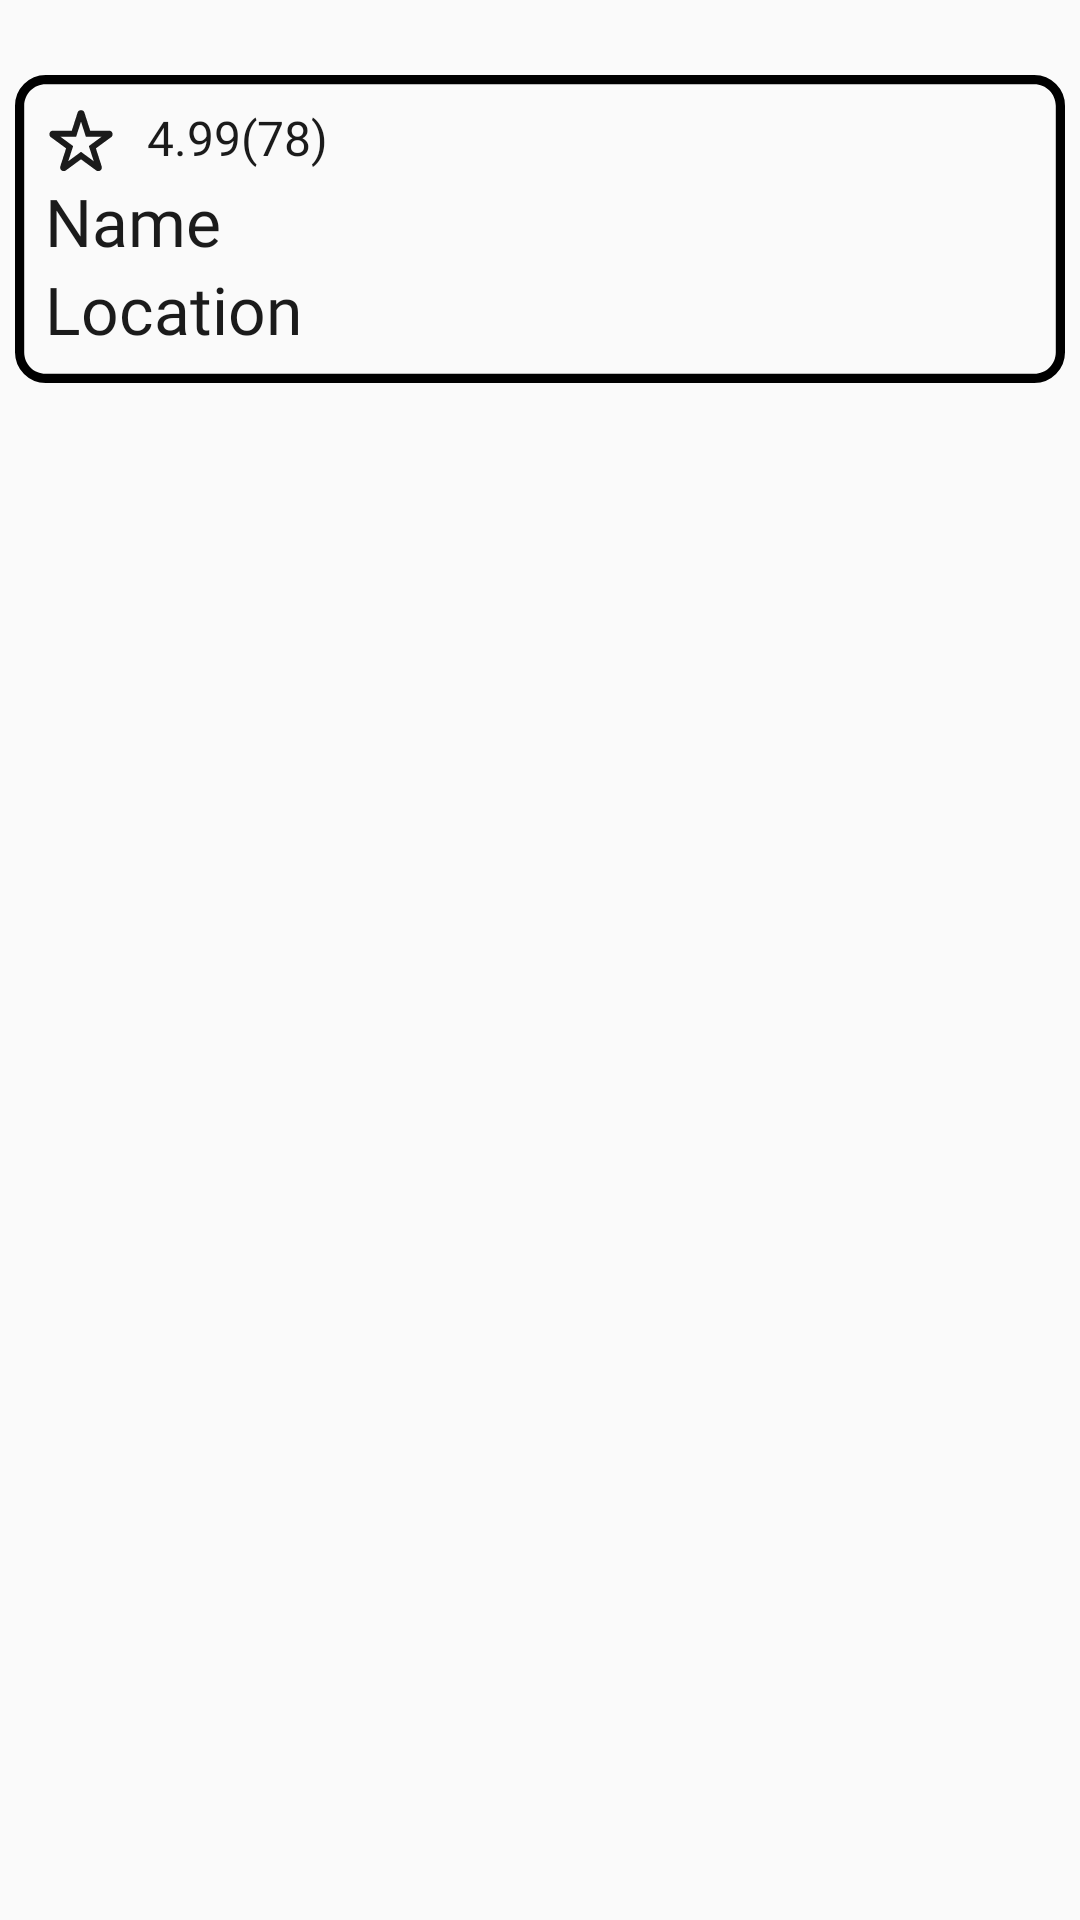

Icon bounding boxes for this 1080 × 1920 phone screenshot, format (x1, y1, x2, y2):
star: (49, 110, 113, 171)
